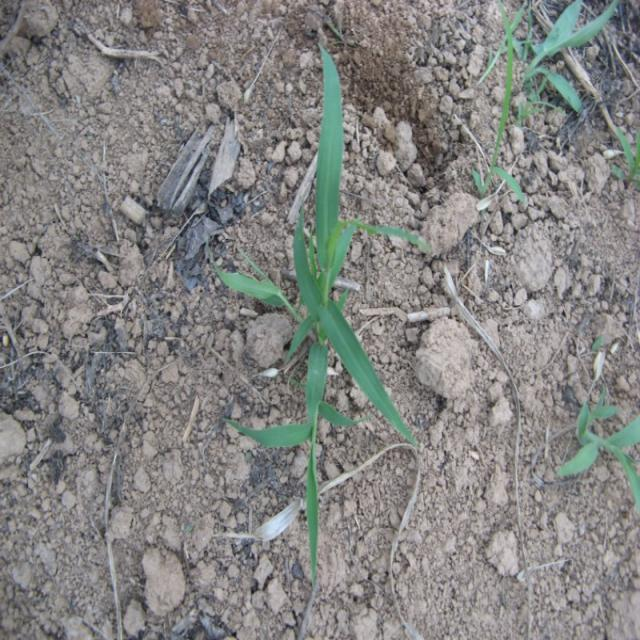bg: (217, 36, 419, 562)
